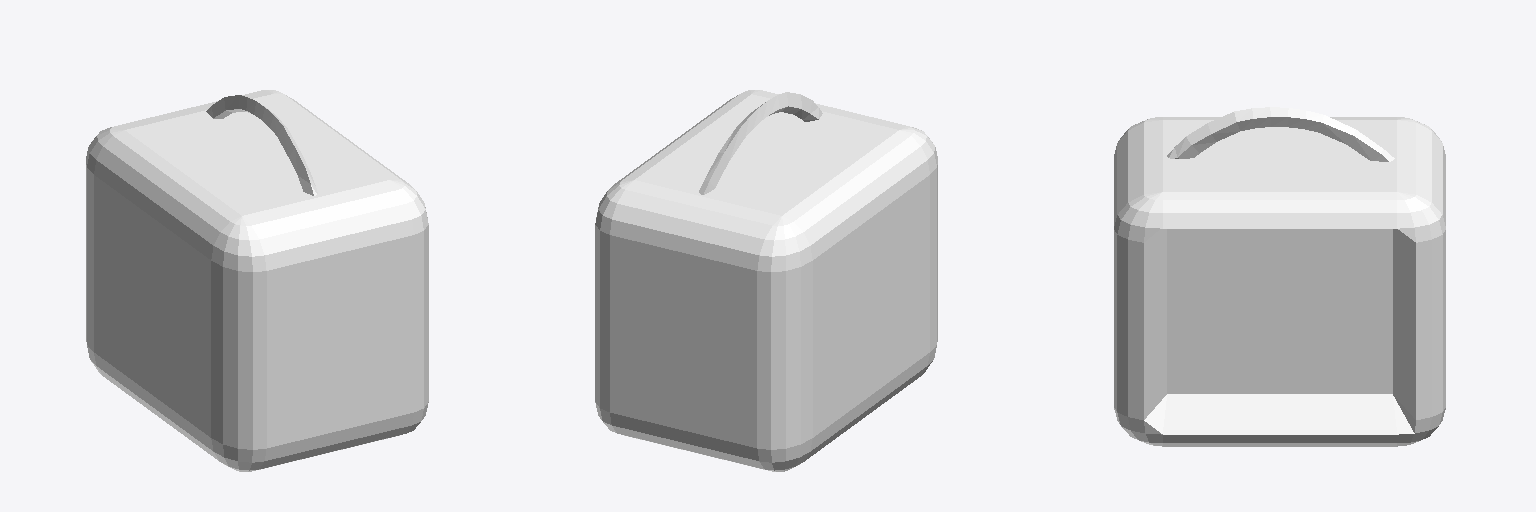
Rendered from amp.obj.
3 renders of one model, left to right at view 1: azimuth 30°, elevation 25°; view 2: azimuth 150°, elevation 25°; view 3: azimuth 270°, elevation 25°, orthographic.
Parts seen in each view (by area): view 1: Amp, AmpHandle; view 2: Amp, AmpHandle; view 3: Amp, AmpHandle.
Boxes of the visible parts, x1,y1,x2,y2 form: Amp: [86, 90, 428, 471]; AmpHandle: [206, 95, 317, 195]; Amp: [595, 90, 937, 471]; AmpHandle: [699, 92, 822, 194]; Amp: [1114, 117, 1445, 446]; AmpHandle: [1167, 107, 1394, 161].
Size of the model in its own units: 470 by 656 by 654.